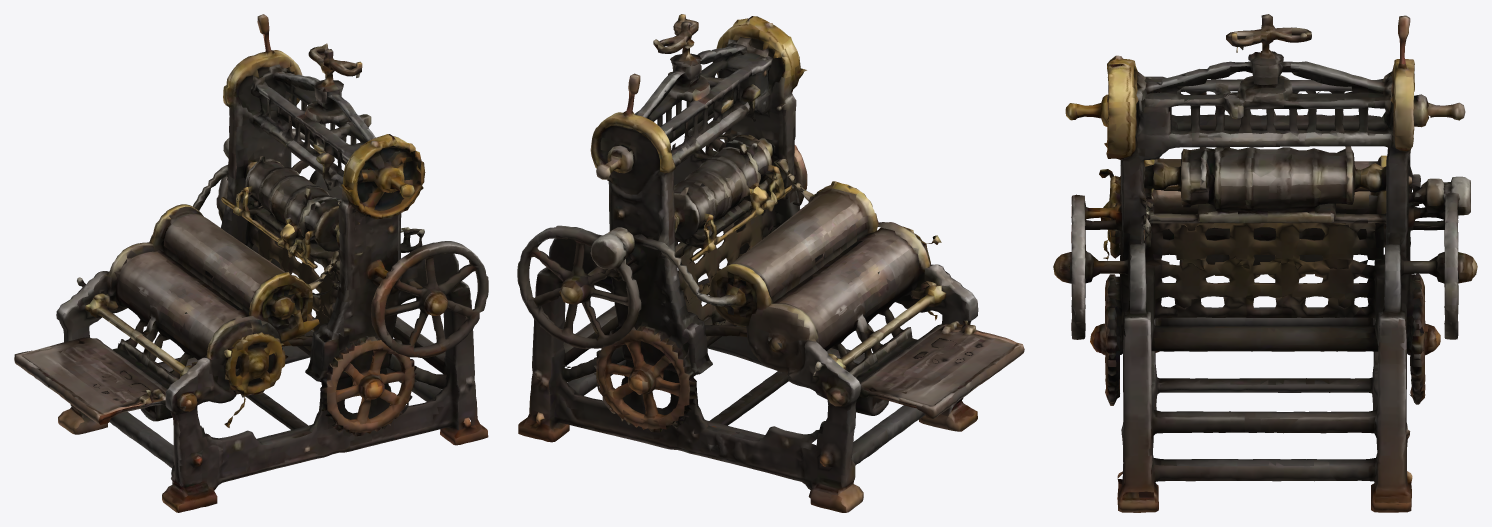
Rendered from press.glb.
3 views of the same model, side by side, from view 1: azimuth 30°, elevation 25°; view 2: azimuth 150°, elevation 25°; view 3: azimuth 270°, elevation 25° (orthographic). The views are drawn at different scales.
Visible parts, largest first — view 1: press; view 2: press; view 3: press.
Part boxes in pixels (bbox=[...]): press: bbox=[14, 14, 488, 512]; press: bbox=[517, 14, 1024, 512]; press: bbox=[1053, 14, 1477, 512].
Bounding box in the file's own units: 0.9792 × 0.9169 × 0.8006.
1 material, 1 textured.
